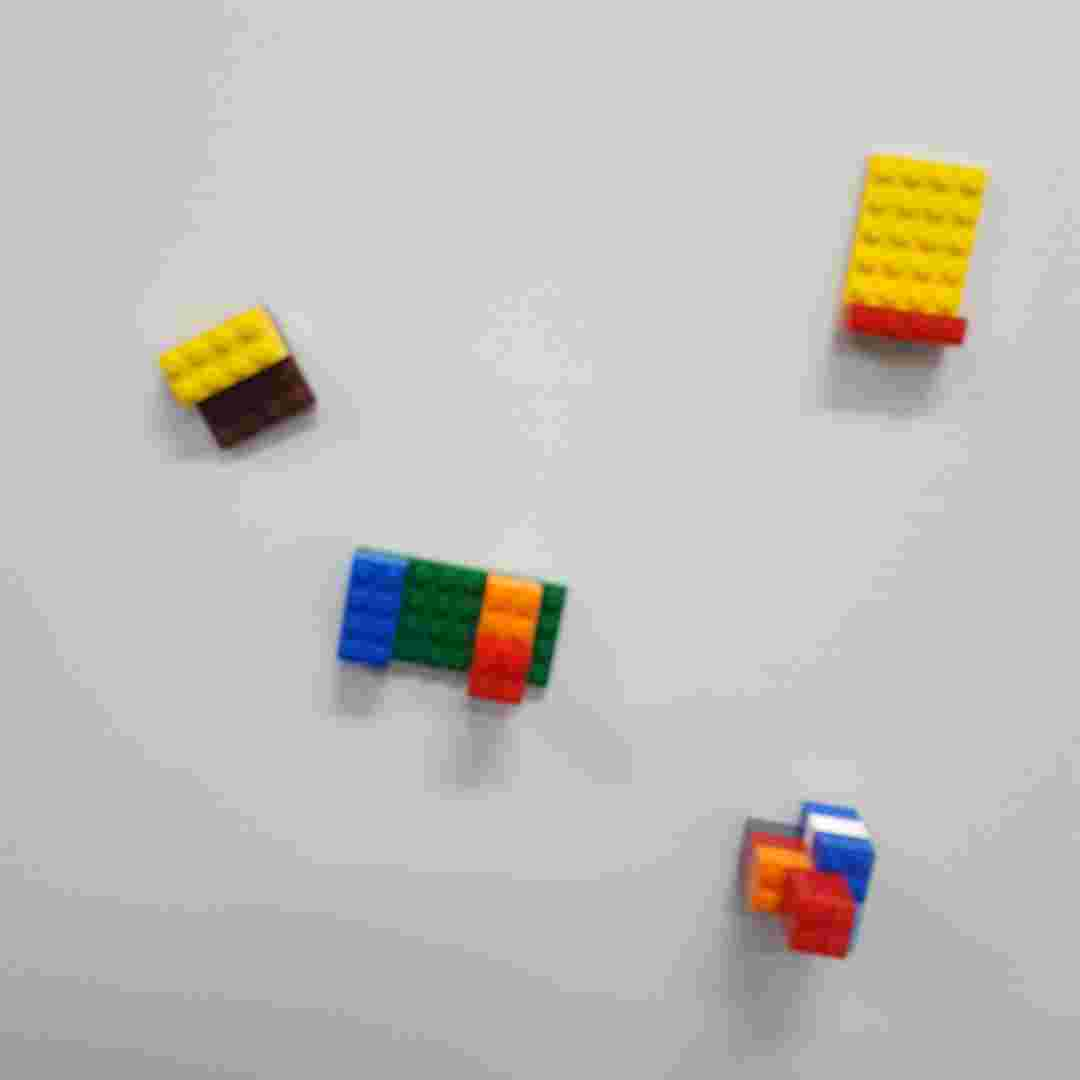LEGO: (327, 542, 576, 707), (829, 147, 989, 351), (731, 793, 880, 960), (159, 301, 322, 446)
